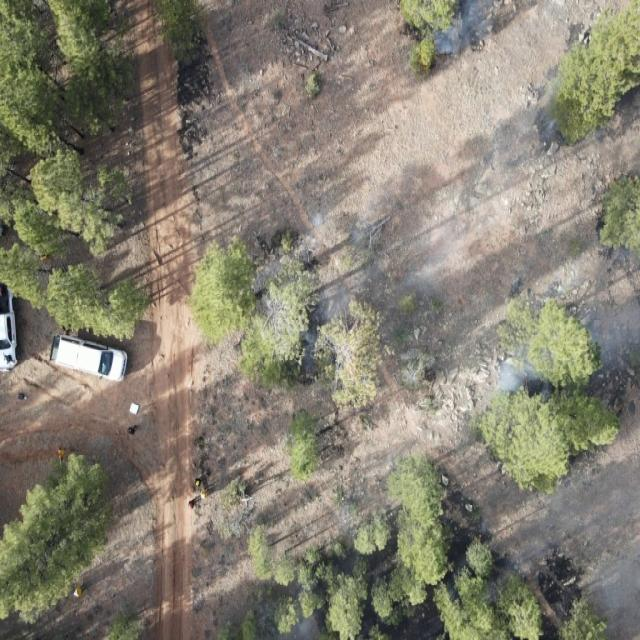fire: (416, 34, 440, 70)
smoke: (248, 178, 472, 382), (491, 301, 640, 400), (503, 74, 577, 164), (585, 546, 640, 640), (432, 0, 507, 58), (606, 245, 640, 274), (293, 610, 319, 640)
